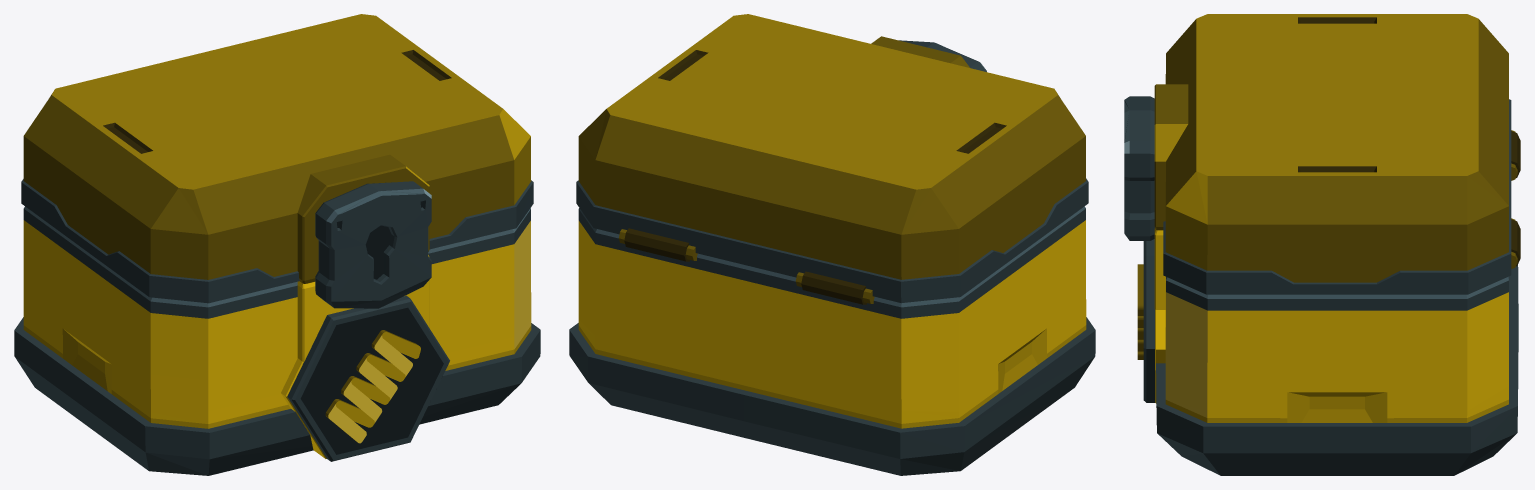
Rendered from BOX_MATERAL_G3_02.fbx.
3 views of the same model, side by side, from view 1: azimuth 30°, elevation 25°; view 2: azimuth 150°, elevation 25°; view 3: azimuth 270°, elevation 25° (orthographic). The views are drawn at different scales.
Visible parts, largest first — view 1: Object003, BOX_MATERAL_G3_02, Object004; view 2: Object003, BOX_MATERAL_G3_02; view 3: Object003, BOX_MATERAL_G3_02, Object004.
Part boxes in pixels (x1,y1,x2,y2): Object003: (21, 14, 533, 303); BOX_MATERAL_G3_02: (14, 206, 540, 475); Object004: (315, 181, 431, 308); Object003: (576, 14, 1088, 304); BOX_MATERAL_G3_02: (569, 206, 1095, 475); Object003: (1154, 14, 1520, 294); BOX_MATERAL_G3_02: (1137, 228, 1518, 475); Object004: (1124, 96, 1154, 240).
Size of the model in its own units: 187 by 128 by 158.
